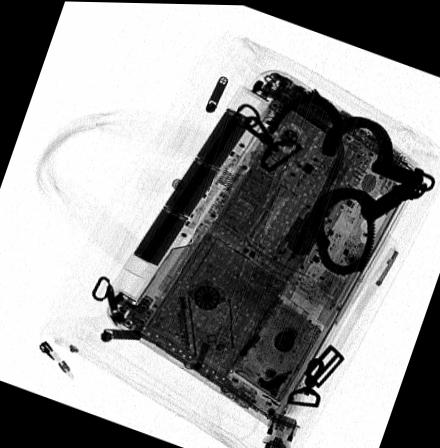HandCuffs: (263, 86, 439, 274)
